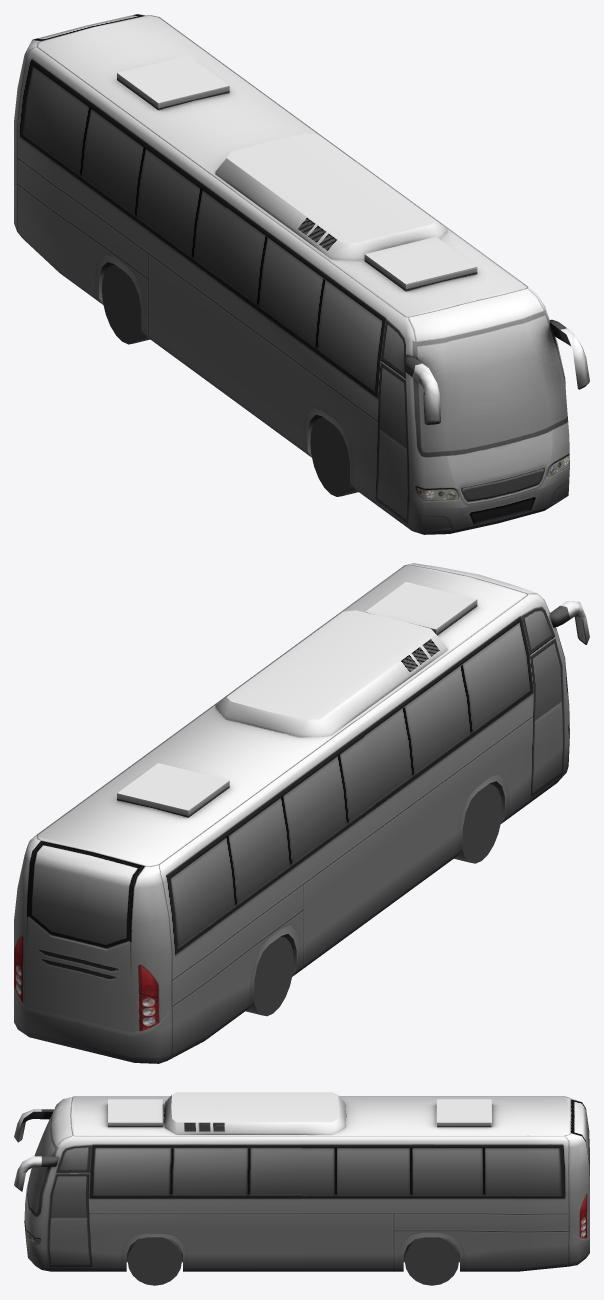
File: gz-bus.glb
3 views of the same model, one above another, from view 1: azimuth 30°, elevation 25°; view 2: azimuth 150°, elevation 25°; view 3: azimuth 270°, elevation 25° (orthographic). The views are drawn at different scales.
Parts seen in each view (by area): view 1: object 1, wheel_rr, wheel_fr; view 2: object 1, wheel_fr, wheel_rr; view 3: object 1, wheel_rl, wheel_fl.
Part boxes in pixels (<box>): object 1: <box>14,14,589,534</box>; wheel_rr: <box>101,264,149,344</box>; wheel_fr: <box>310,417,358,496</box>; object 1: <box>14,563,589,1063</box>; wheel_fr: <box>454,784,502,863</box>; wheel_rr: <box>246,936,293,1016</box>; object 1: <box>14,1092,589,1271</box>; wheel_rl: <box>404,1237,458,1285</box>; wheel_fl: <box>127,1237,181,1285</box>.
Size of the model in its own units: 2.71 by 3.7 by 12.49.
2 materials, 1 textured.
